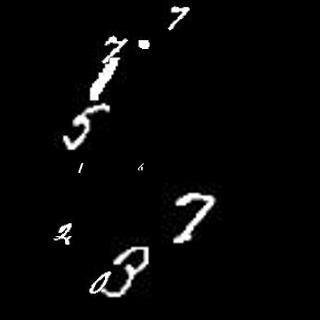dot: (136, 36, 152, 51)
five: (60, 103, 113, 151)
one: (88, 59, 122, 102), (76, 159, 85, 174)
seven: (173, 191, 217, 242), (99, 34, 129, 65), (166, 4, 190, 31)
three: (103, 244, 148, 298)
two: (55, 221, 74, 244)
zero: (89, 270, 112, 295)
